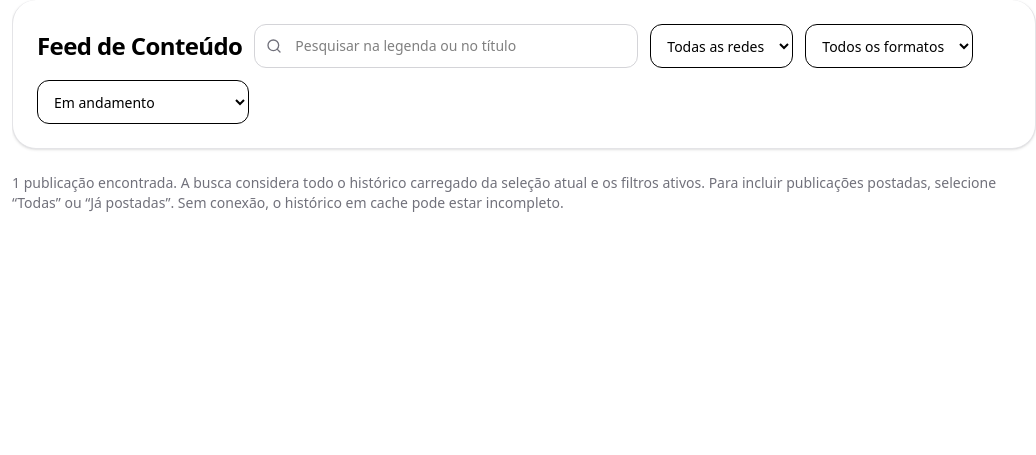
Test: publicação no Feed › não oferece ação para client sem autorização da marca
Select "Já postadas" in the dropdown named "Filtrar por status". click: [143, 102]
box: [37,80,249,124]
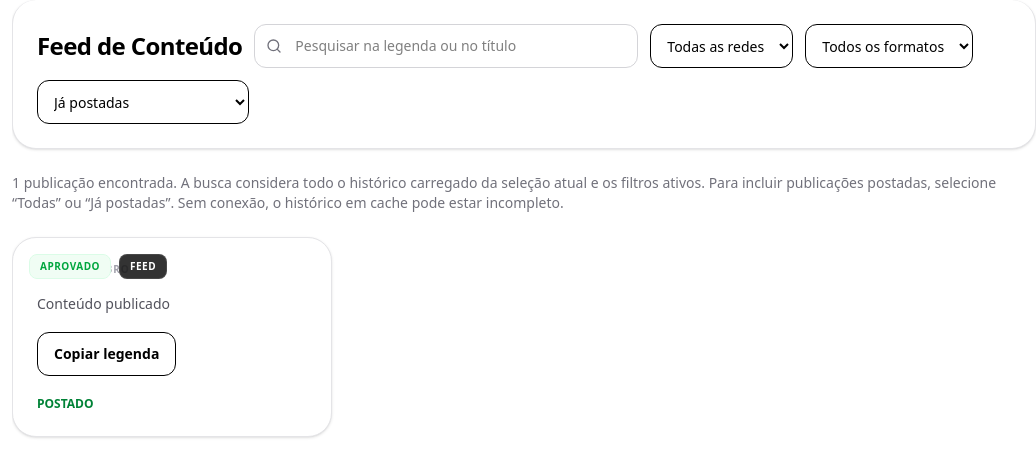
Now the text "POSTADO" is shown, box [37,395,94,412]
